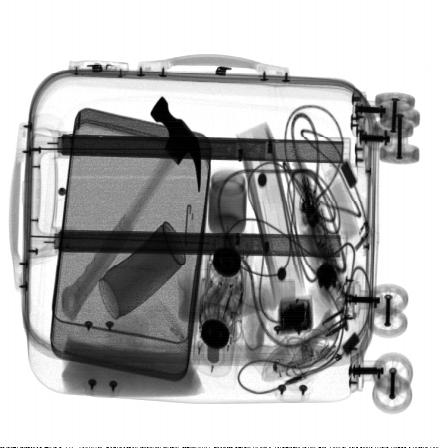Hammer: (60, 96, 202, 324)
